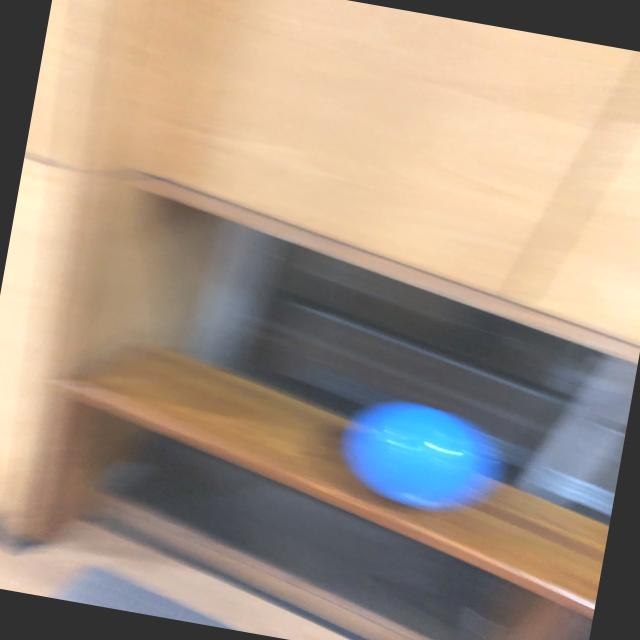blue_ball: (333, 391, 497, 517)
